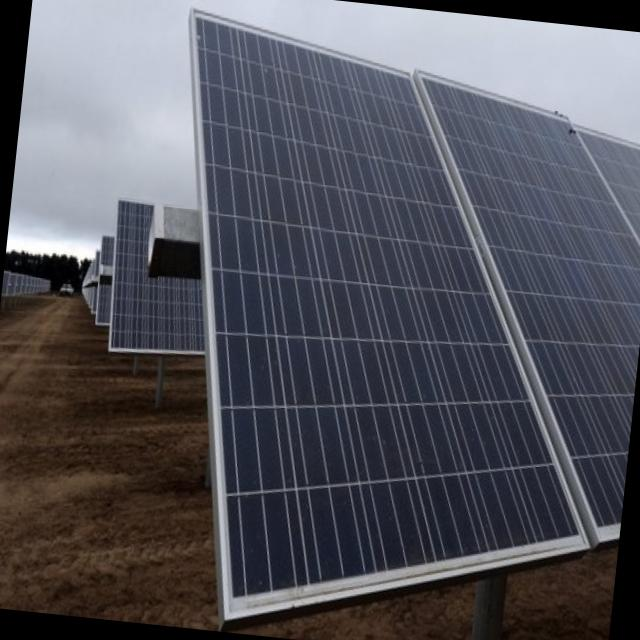no faulty: (200, 15, 640, 598), (112, 201, 201, 356)
